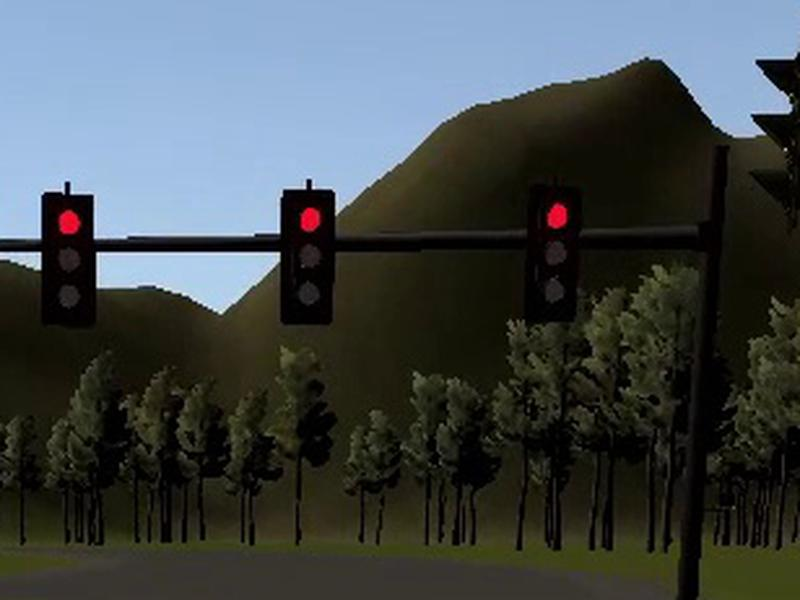Red: (524, 184, 583, 321), (281, 190, 337, 325), (41, 193, 94, 329)
